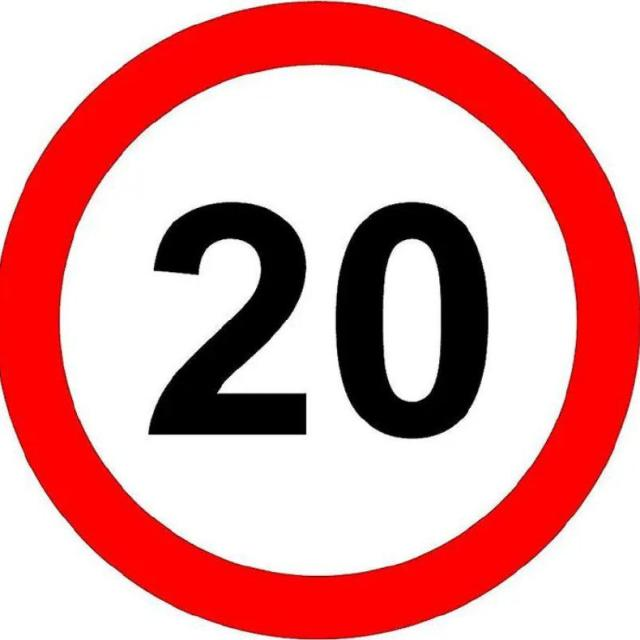speedlimit_20: (18, 4, 640, 626)
